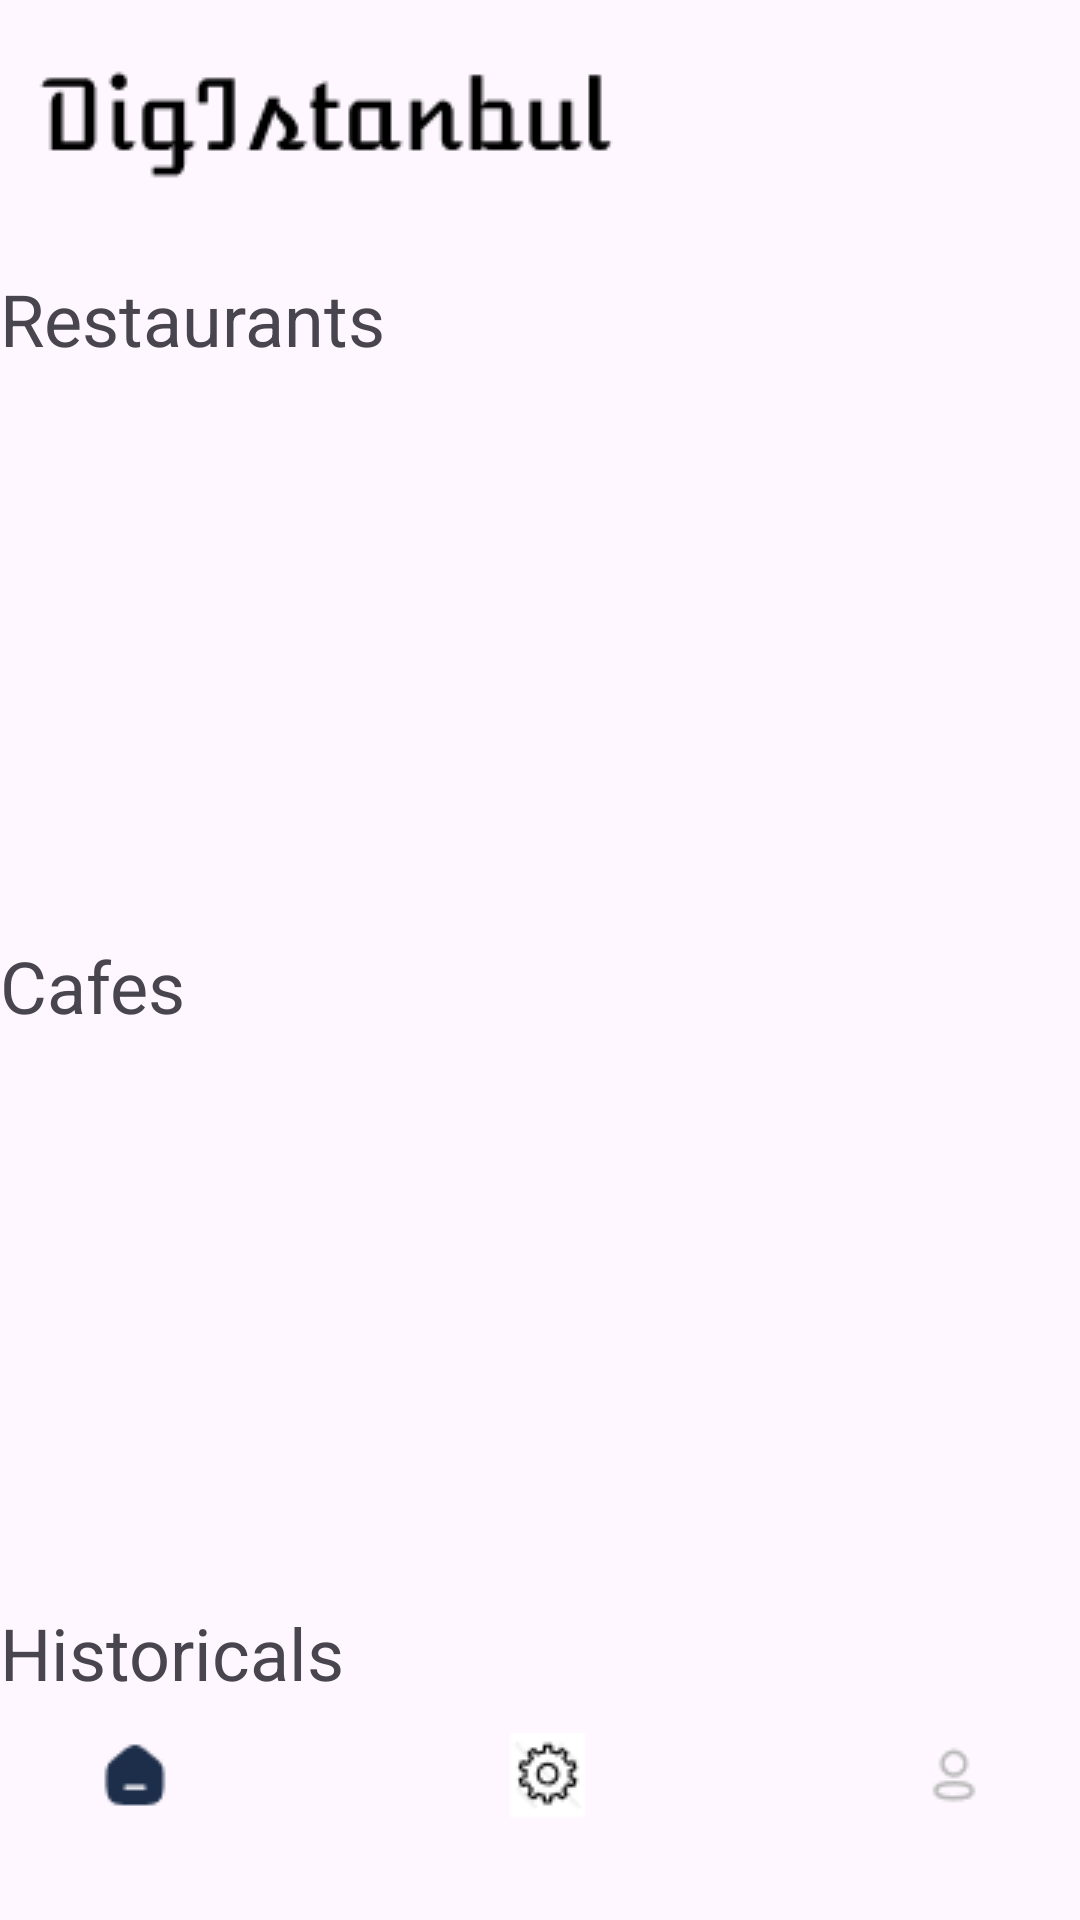

Icons on this 1080px x 1920px Android screen, each with the point to tap as point (x, y):
Settings Button: point (548, 1774)
